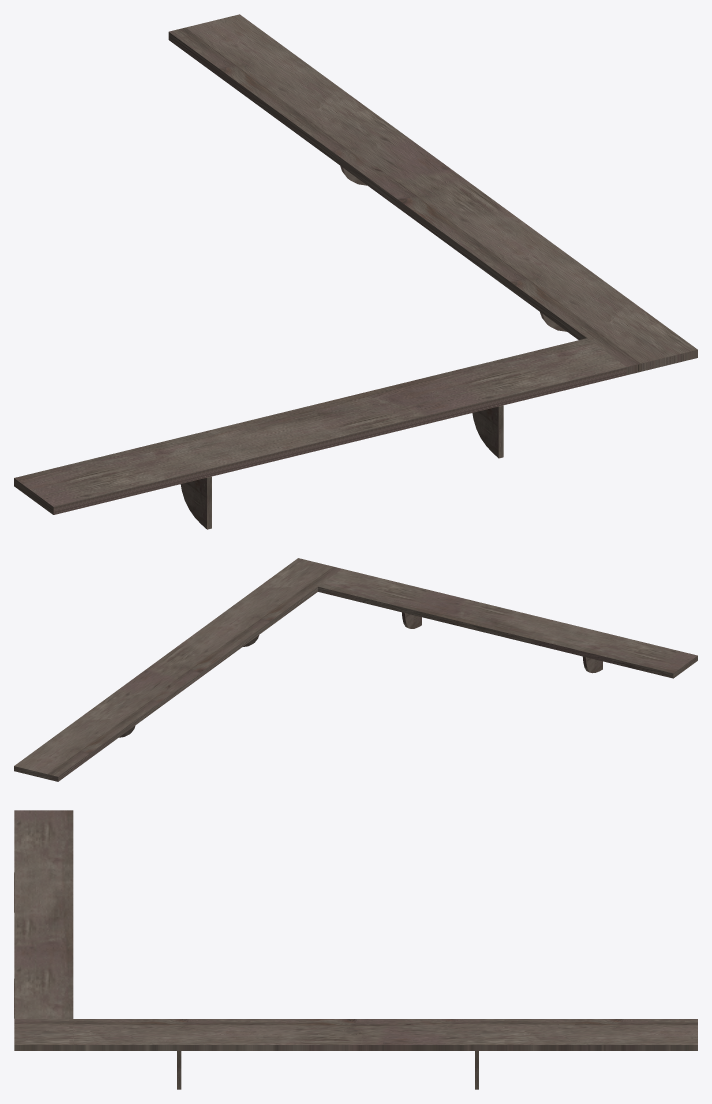
Rendered from House2.fbx.
The picture shows the model from 3 angles, top to bottom: view 1: azimuth 30°, elevation 25°; view 2: azimuth 150°, elevation 25°; view 3: azimuth 270°, elevation 25°; orthographic projection. The views are drawn at different scales.
Parts seen in each view (by area): view 1: Cube.004; view 2: Cube.004; view 3: Cube.004.
Boxes of the visible parts, x1,y1,x2,y2 form: Cube.004: [14, 14, 697, 529]; Cube.004: [14, 558, 697, 781]; Cube.004: [14, 810, 697, 1089].
Bounding box in the file's own units: 7.65 × 9.43 × 0.6799.
Materials: 1 (1 with a texture image).
